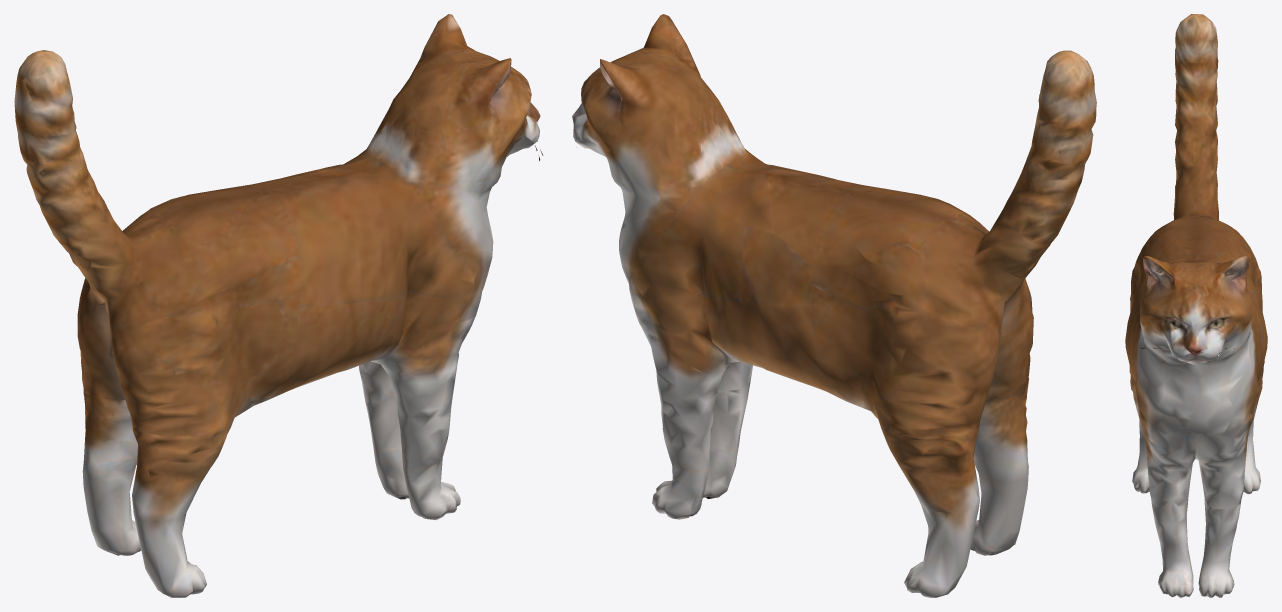
Rendered from RICKKEY-lo.glb.
The picture shows the model from 3 angles, left to right: view 1: azimuth 30°, elevation 25°; view 2: azimuth 150°, elevation 25°; view 3: azimuth 270°, elevation 25°; orthographic projection. The views are drawn at different scales.
Visible parts, largest first — view 1: tripo_node_0964be97-3488-4820-b8a0-94e8706e25e3; view 2: tripo_node_0964be97-3488-4820-b8a0-94e8706e25e3; view 3: tripo_node_0964be97-3488-4820-b8a0-94e8706e25e3.
Boxes of the visible parts, bbox=[...] form: tripo_node_0964be97-3488-4820-b8a0-94e8706e25e3: bbox=[14, 14, 543, 597]; tripo_node_0964be97-3488-4820-b8a0-94e8706e25e3: bbox=[572, 14, 1096, 597]; tripo_node_0964be97-3488-4820-b8a0-94e8706e25e3: bbox=[1125, 14, 1267, 597].
Bounding box in the file's own units: 0.9961 × 0.9986 × 0.298.
Materials: 1 (1 with a texture image).
